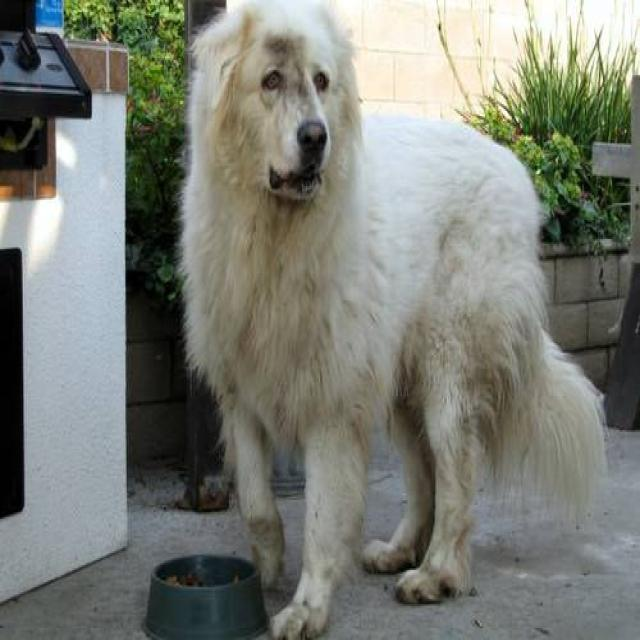dog-great_pyrenees: (166, 2, 609, 637)
